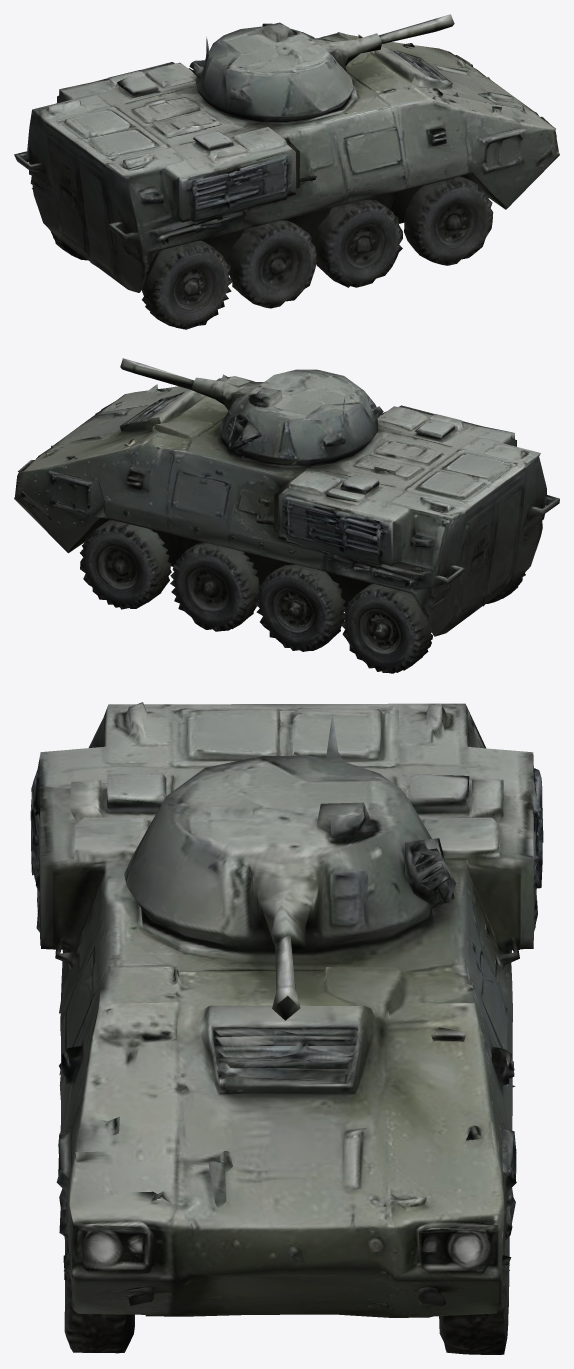
Rendered from xd_apc.glb.
The picture shows the model from 3 angles, top to bottom: view 1: azimuth 30°, elevation 25°; view 2: azimuth 150°, elevation 25°; view 3: azimuth 270°, elevation 25°; orthographic projection. The views are drawn at different scales.
Visible parts, largest first — view 1: tripo_node_16d7b1f8-dfbf-410d-9673-ec270b477f52; view 2: tripo_node_16d7b1f8-dfbf-410d-9673-ec270b477f52; view 3: tripo_node_16d7b1f8-dfbf-410d-9673-ec270b477f52.
Boxes of the visible parts, x1,y1,x2,y2 form: tripo_node_16d7b1f8-dfbf-410d-9673-ec270b477f52: (14,14,559,329); tripo_node_16d7b1f8-dfbf-410d-9673-ec270b477f52: (14,358,559,673); tripo_node_16d7b1f8-dfbf-410d-9673-ec270b477f52: (30,702,543,1354).
Bounding box in the file's own units: 0.9677 × 0.4779 × 0.4873.
1 material, 1 textured.
